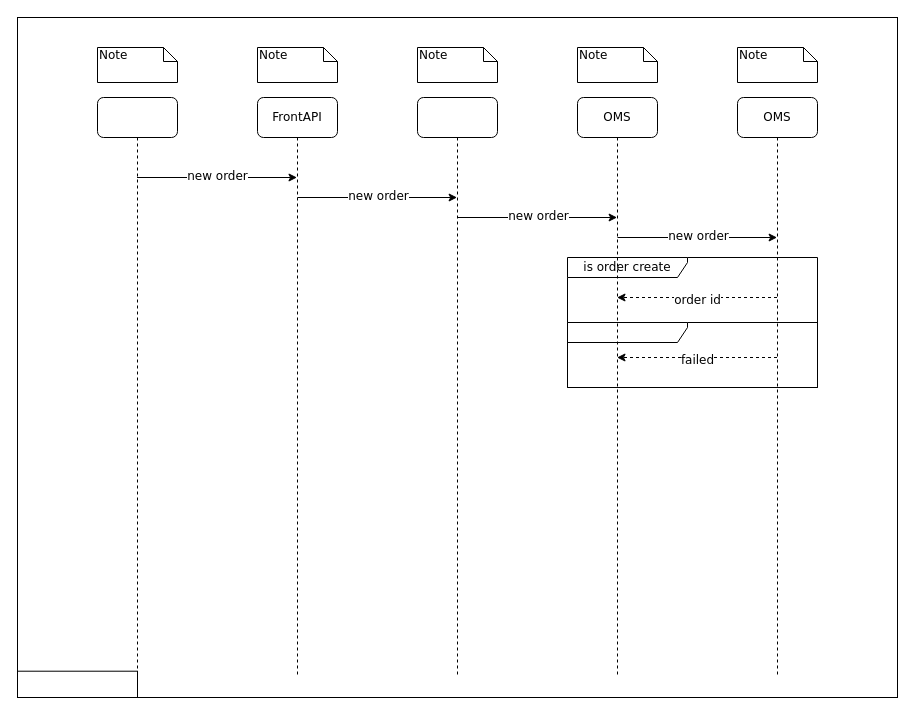
Some shapes in this 915 by 715 pixel diagram are drawn without their labels. The shapes that lost their labels are listed below. From the top down, each one's box as (x1, y1, x2, y2) in pixels, then its label:
(566, 322, 818, 388): else
(96, 96, 178, 678): Frontend
(416, 96, 498, 678): OMS Driver
(16, 670, 138, 698): v.0.0.1 (000408)
